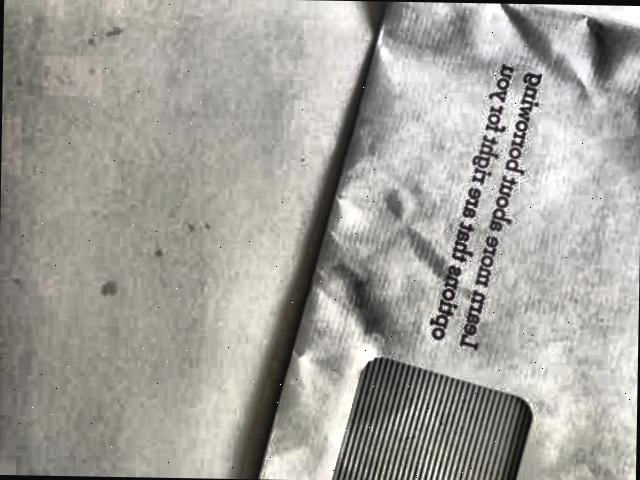Paper: (225, 0, 640, 480)
